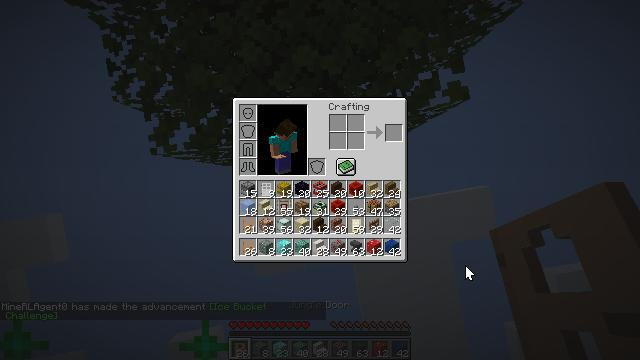cursor: (465, 265, 475, 281)
